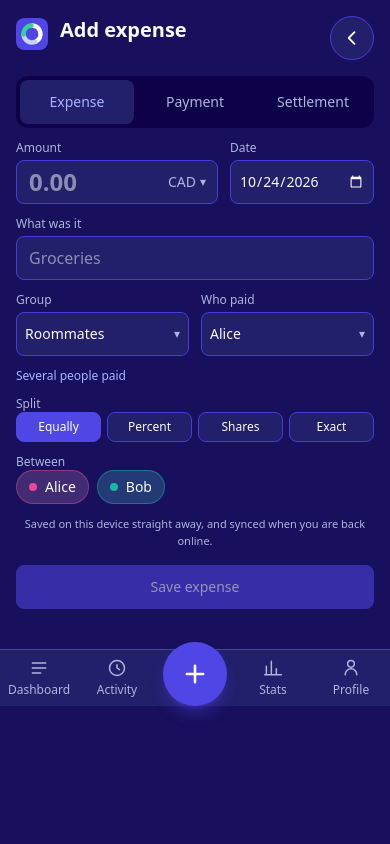
ExpenseFormView with several payers › starts with a row for each of two people
The width and height of the screenshot is (390, 844).
Click the button with test id "share-payment" at [71, 376], box left=16, top=368, right=126, bottom=384
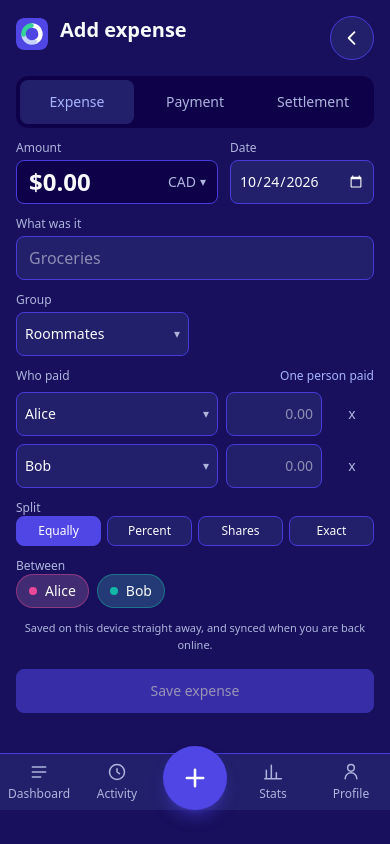
Expected: the number of elements with test id "payer-row" is 2, left=16, top=392, right=374, bottom=436; left=16, top=444, right=374, bottom=488
